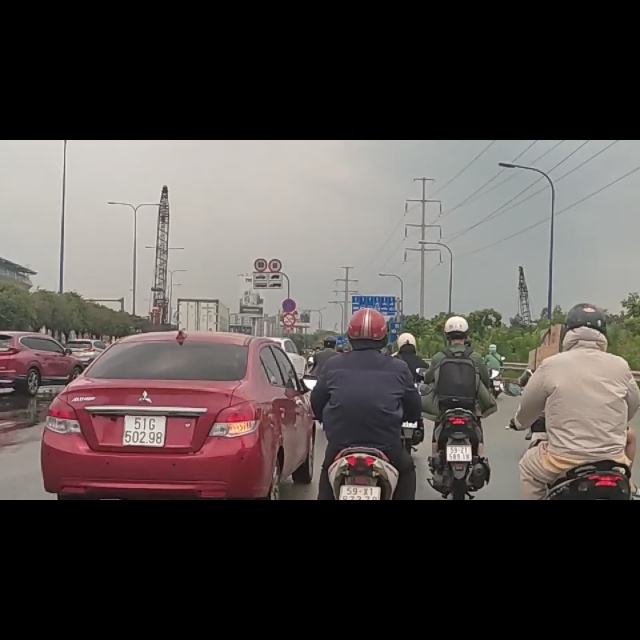bien_chi_dan: (281, 281, 296, 306)
